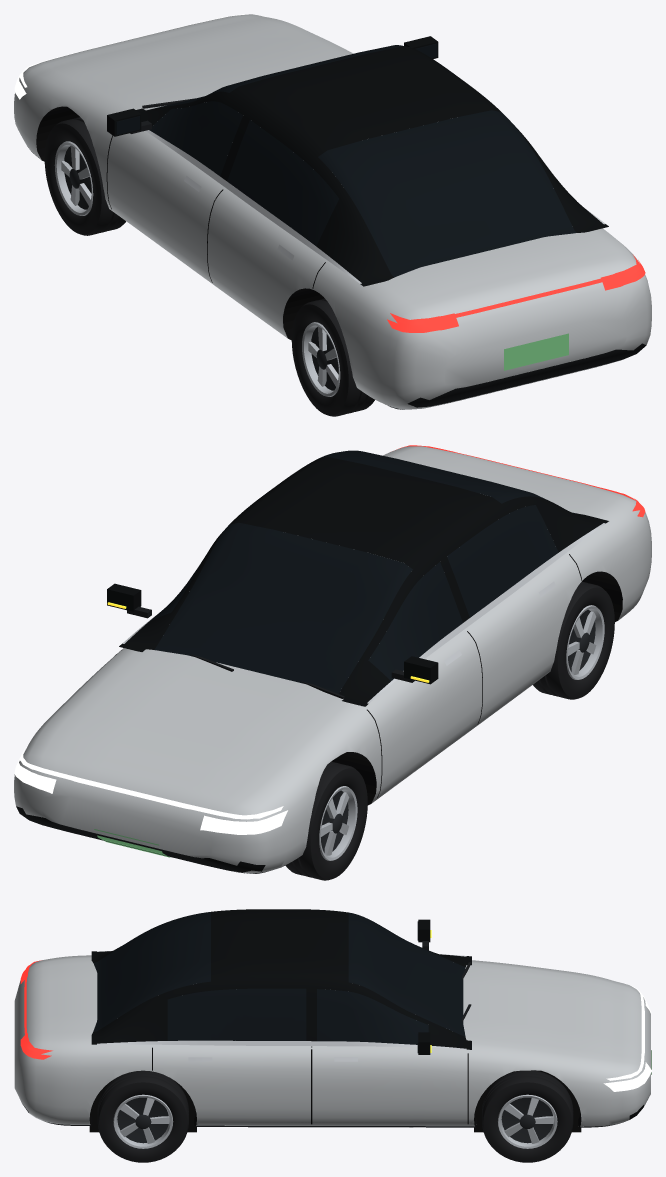
File: gz_sedan.glb
The picture shows the model from 3 angles, top to bottom: view 1: azimuth 30°, elevation 25°; view 2: azimuth 150°, elevation 25°; view 3: azimuth 270°, elevation 25°; orthographic projection. The views are drawn at different scales.
Visible parts, largest first — view 1: sedan | body, sedan rear left | wheel, sedan front left | wheel; view 2: sedan | body, sedan front left | wheel, sedan rear left | wheel; view 3: sedan | body, sedan front right | wheel, sedan rear right | wheel.
Part boxes in pixels (box(x1,y1,x2,y2)): sedan | body: box(14, 14, 651, 409); sedan rear left | wheel: box(291, 298, 374, 416); sedan front left | wheel: box(44, 117, 125, 235); sedan | body: box(14, 445, 651, 873); sedan front left | wheel: box(285, 761, 367, 880); sedan rear left | wheel: box(533, 581, 614, 699); sedan | body: box(14, 909, 651, 1132); sedan front right | wheel: box(482, 1070, 573, 1162); sedan rear right | wheel: box(97, 1070, 188, 1162).
Size of the model in its own units: 2.19 by 1.45 by 4.81.
